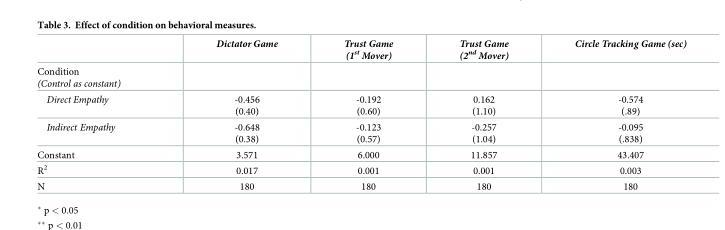table: (36, 36, 685, 191)
table column: (540, 36, 685, 191), (167, 36, 310, 191), (36, 36, 167, 191), (310, 36, 425, 191), (425, 36, 540, 191)
table column header: (36, 36, 685, 63)
table projected row header: (36, 63, 685, 90)
table row: (36, 90, 685, 118), (36, 118, 685, 146), (36, 36, 685, 63), (36, 63, 685, 90), (36, 161, 685, 178), (36, 146, 685, 161), (36, 178, 685, 191)
